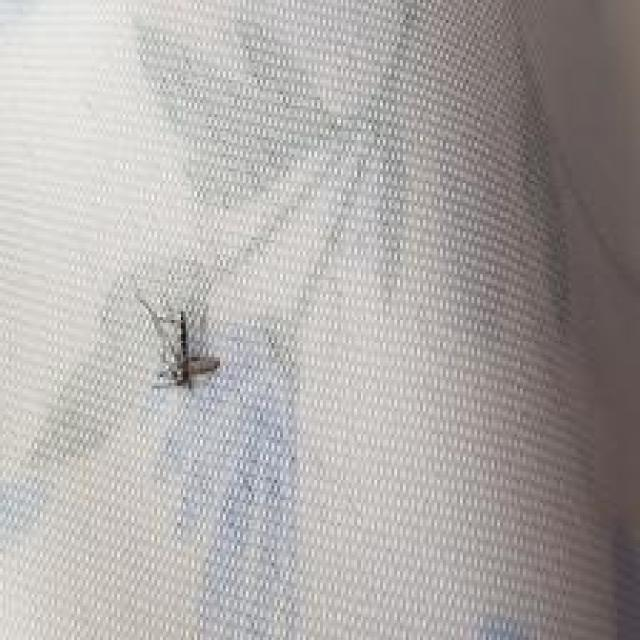Aedes albopictus: (133, 287, 221, 393)
